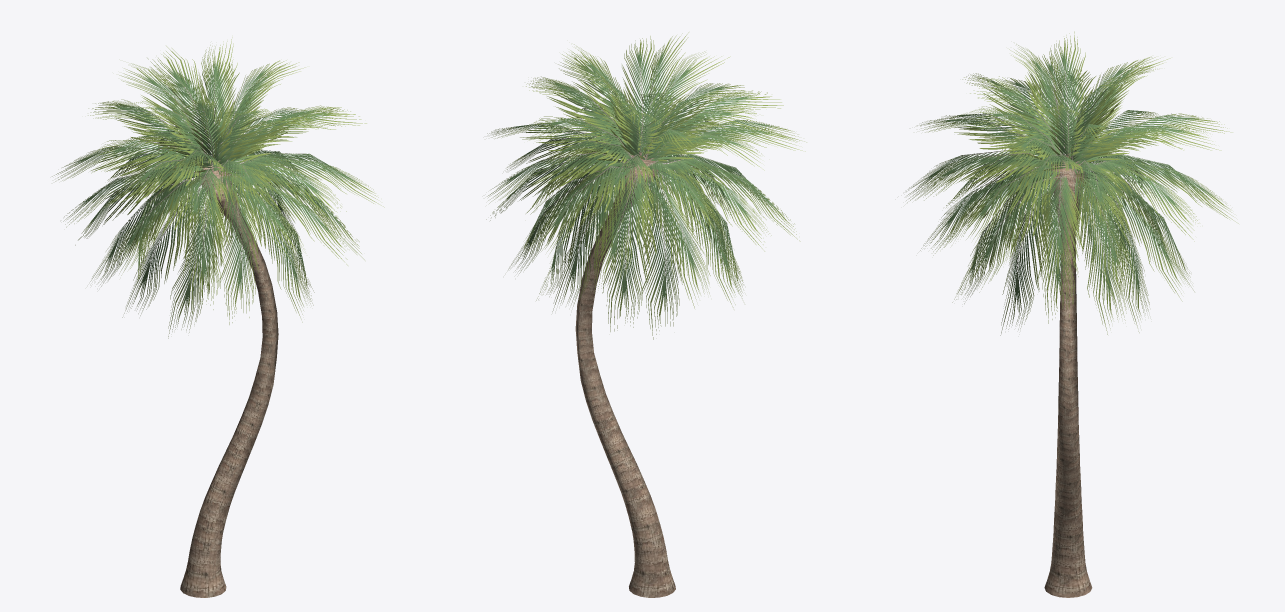
File: realistic_palm_tree_6_free.glb
The picture shows the model from 3 angles, left to right: view 1: azimuth 30°, elevation 25°; view 2: azimuth 150°, elevation 25°; view 3: azimuth 270°, elevation 25°; orthographic projection. The views are drawn at different scales.
Parts seen in each view (by area): view 1: palm_leaf_2_5_1, palm_trunk_6_0; view 2: palm_leaf_2_5_1, palm_trunk_6_0; view 3: palm_leaf_2_5_1, palm_trunk_6_0.
Part boxes in pixels (x1,y1,x2,y2): palm_leaf_2_5_1: (52, 37, 384, 338); palm_trunk_6_0: (180, 160, 278, 597); palm_leaf_2_5_1: (486, 32, 806, 339); palm_trunk_6_0: (575, 152, 675, 597); palm_leaf_2_5_1: (906, 31, 1238, 335); palm_trunk_6_0: (1044, 154, 1092, 597).
Size of the model in its own units: 6.53 by 9.85 by 6.62.
Materials: 2 (2 with a texture image).
